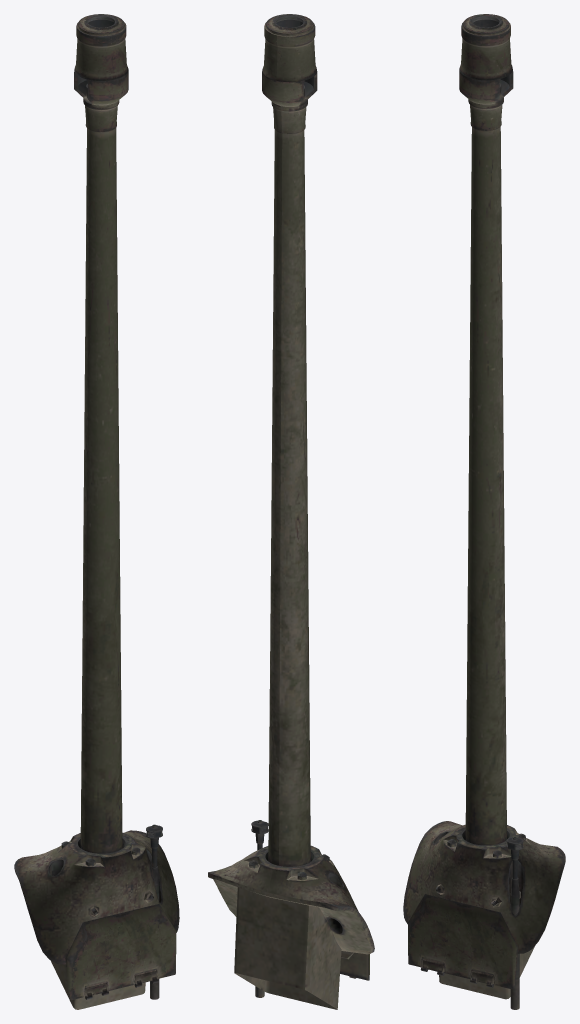
File: Gun_04.glb
3 views of the same model, side by side, from view 1: azimuth 30°, elevation 25°; view 2: azimuth 150°, elevation 25°; view 3: azimuth 330°, elevation 25° (orthographic). The views are drawn at different scales.
Parts seen in each view (by area): view 1: set_0_group_0; view 2: set_0_group_0; view 3: set_0_group_0.
Part boxes in pixels (bbox=[...]): set_0_group_0: bbox=[14, 14, 179, 1009]; set_0_group_0: bbox=[208, 14, 374, 1009]; set_0_group_0: bbox=[403, 14, 565, 1009].
Bounding box in the file's own units: 0.9755 × 6.29 × 0.5596.
1 material, 1 textured.
